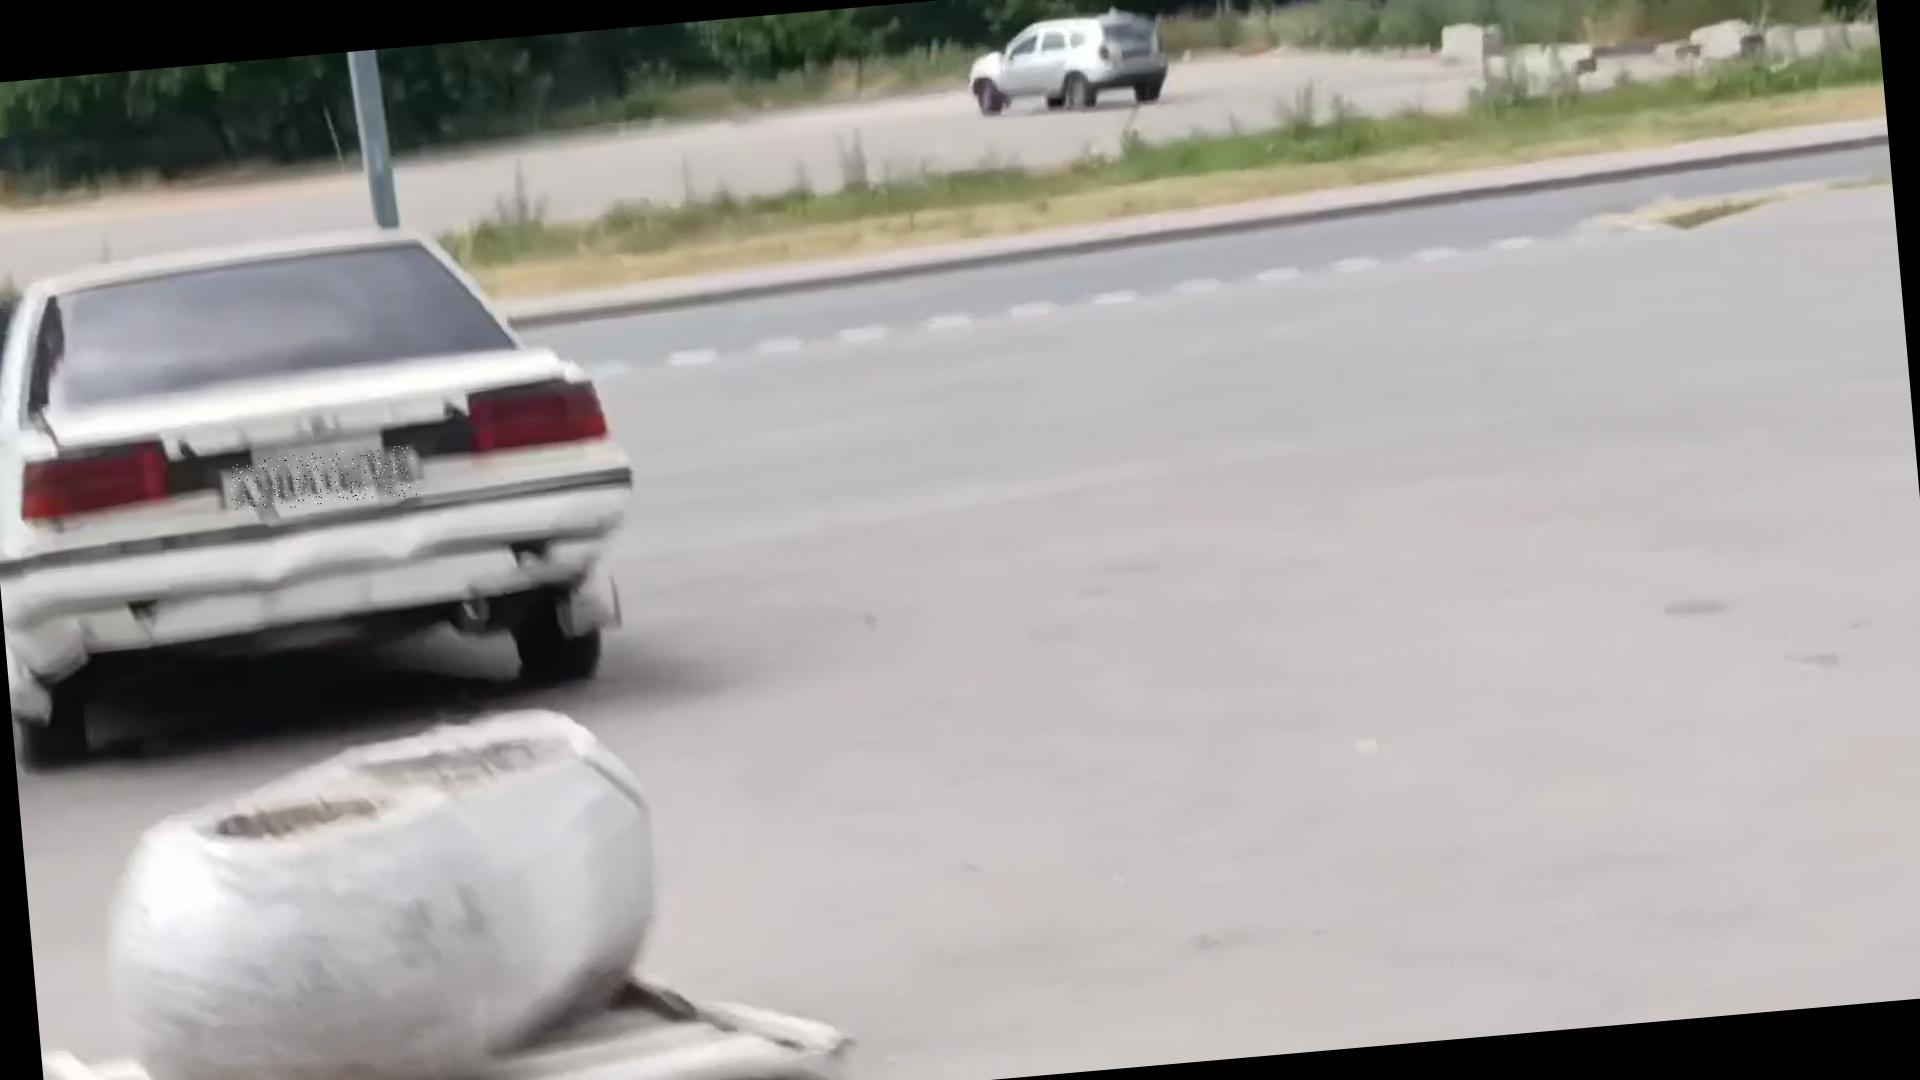plate: (230, 446, 421, 514)
